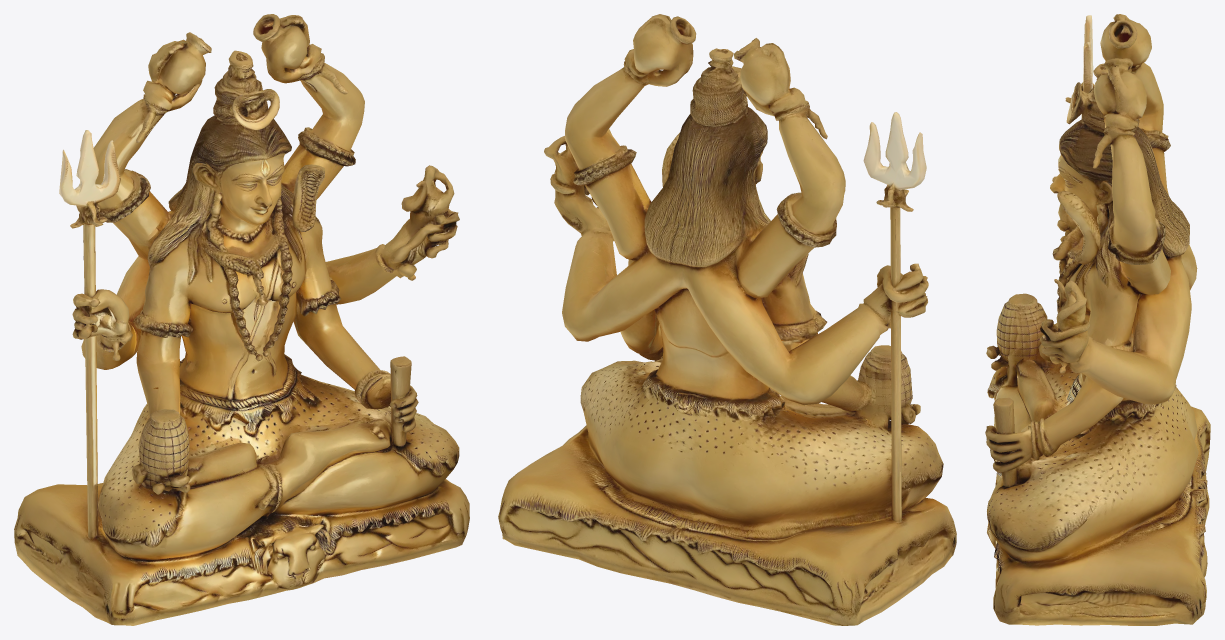
File: shiva.glb
3 renders of one model, left to right at view 1: azimuth 30°, elevation 25°; view 2: azimuth 150°, elevation 25°; view 3: azimuth 270°, elevation 25°, orthographic. The views are drawn at different scales.
Bounding box in the file's own units: 0.7734 × 0.998 × 0.4053.
1 material, 1 textured.
